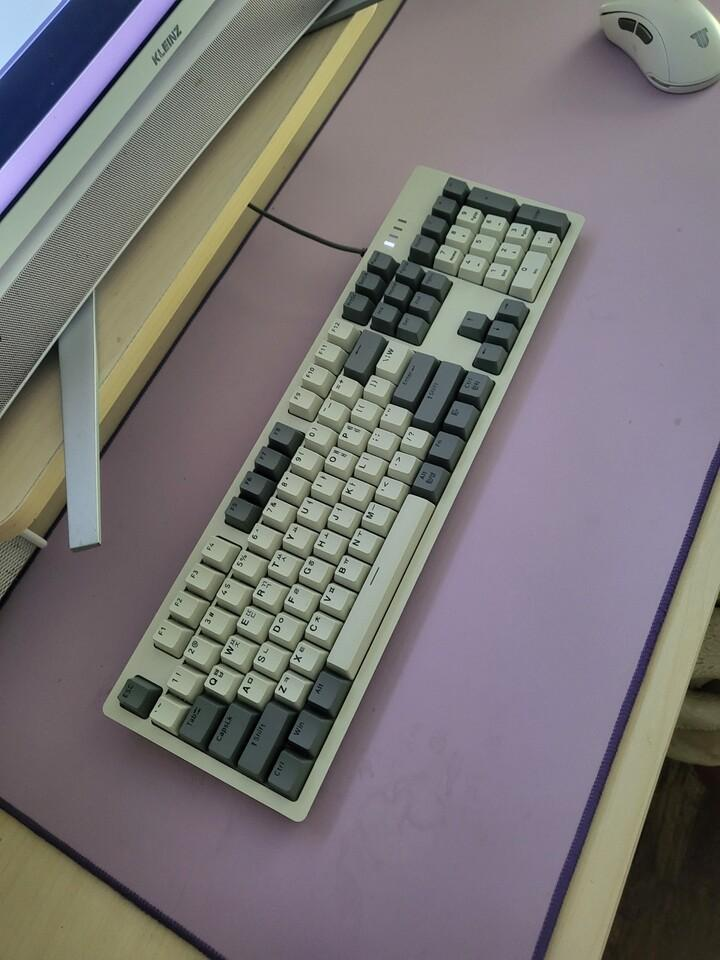keyboard: (100, 163, 585, 824)
mouse: (596, 0, 719, 95)
